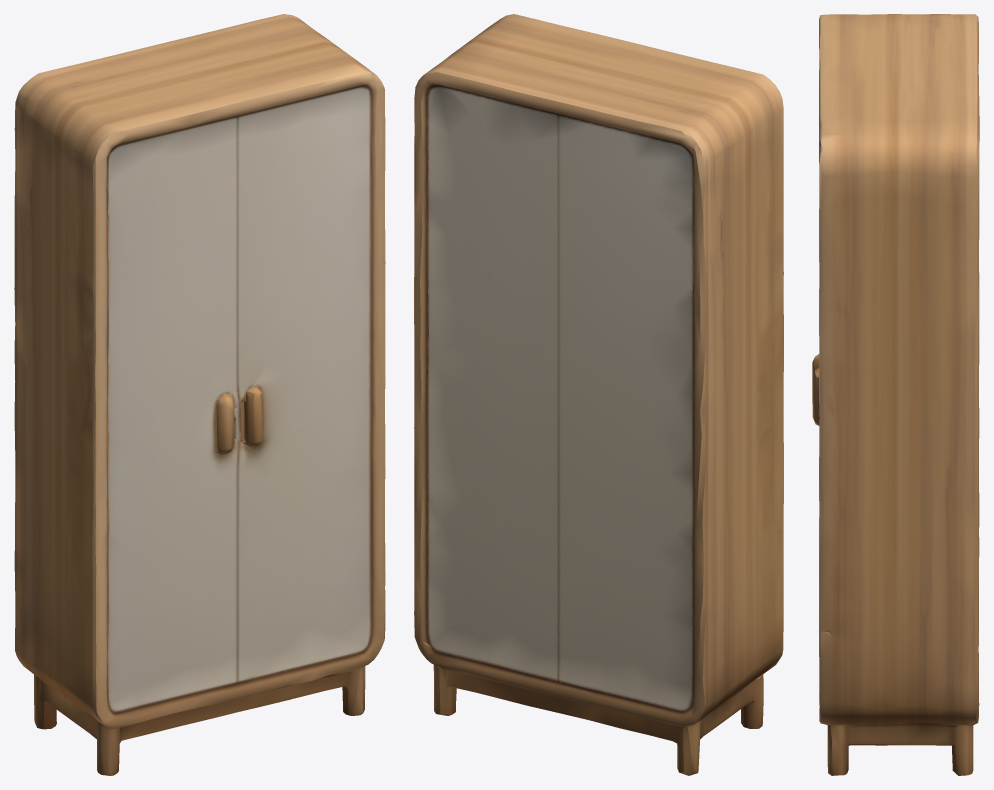
The model's file is Cabinet.glb.
3 views of the same model, side by side, from view 1: azimuth 30°, elevation 25°; view 2: azimuth 150°, elevation 25°; view 3: azimuth 270°, elevation 25° (orthographic).
Parts seen in each view (by area): view 1: geometry_0; view 2: geometry_0; view 3: geometry_0.
Boxes of the visible parts, box(x1,y1,x2,y2) form: geometry_0: box(14, 14, 385, 775); geometry_0: box(414, 14, 783, 775); geometry_0: box(812, 14, 979, 775).
Bounding box in the file's own units: 0.9 × 1.9 × 0.45.
Materials: 1 (1 with a texture image).
